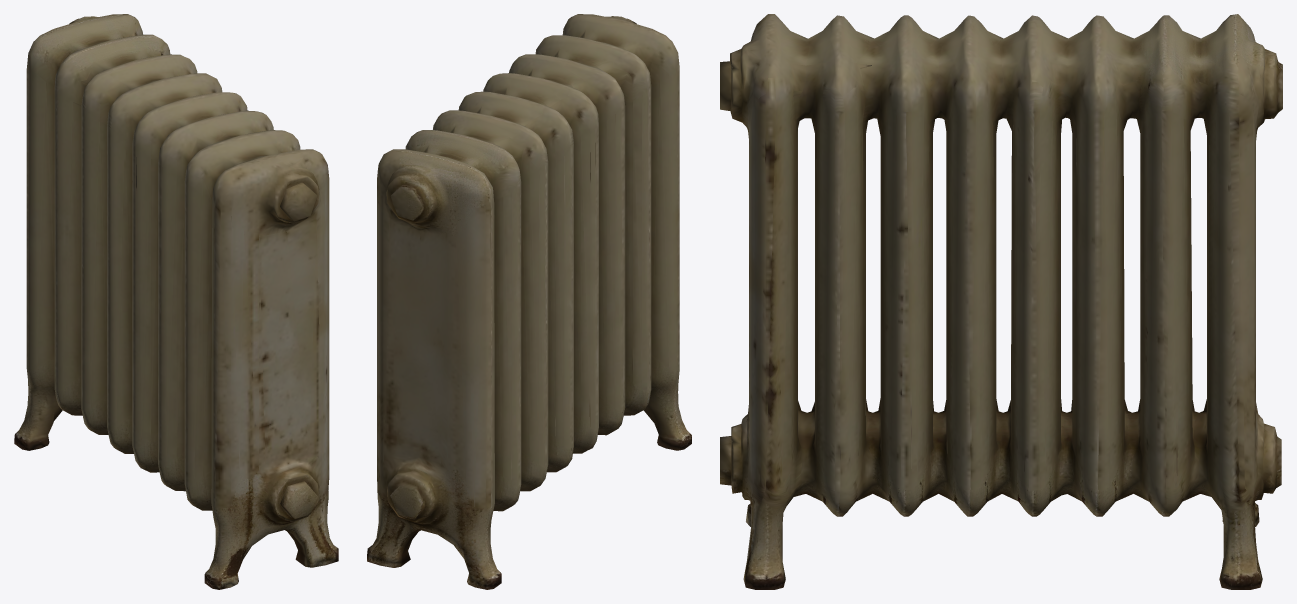
3 views of the same model, side by side, from view 1: azimuth 30°, elevation 25°; view 2: azimuth 150°, elevation 25°; view 3: azimuth 270°, elevation 25° (orthographic). The views are drawn at different scales.
Parts seen in each view (by area): view 1: tripo_node_8786c3e6-57a0-4d62-b764-f8b92ea855af; view 2: tripo_node_8786c3e6-57a0-4d62-b764-f8b92ea855af; view 3: tripo_node_8786c3e6-57a0-4d62-b764-f8b92ea855af.
Part boxes in pixels (left/top/right/bottom): tripo_node_8786c3e6-57a0-4d62-b764-f8b92ea855af: left=14, top=14, right=338, bottom=589; tripo_node_8786c3e6-57a0-4d62-b764-f8b92ea855af: left=367, top=14, right=691, bottom=589; tripo_node_8786c3e6-57a0-4d62-b764-f8b92ea855af: left=720, top=14, right=1282, bottom=589.
Size of the model in its own units: 0.3223 by 0.998 by 0.9863.
Materials: 1 (1 with a texture image).
